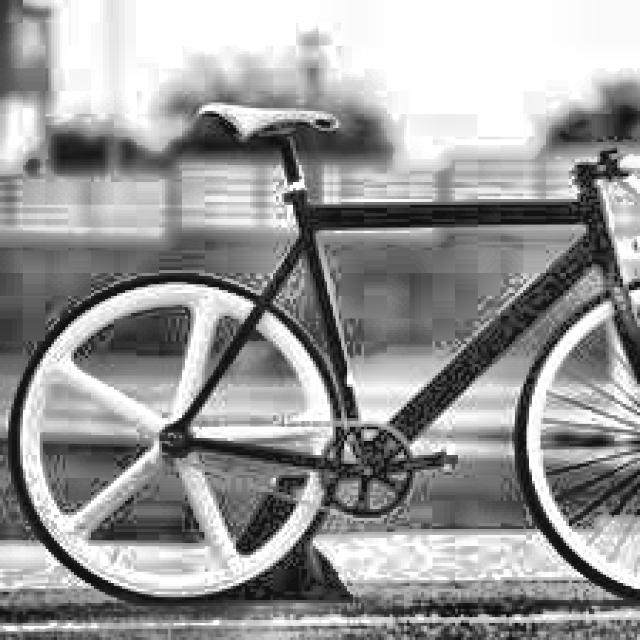bicycle: (8, 65, 640, 612)
